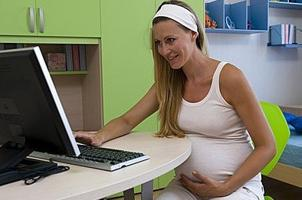person: (73, 2, 277, 200)
